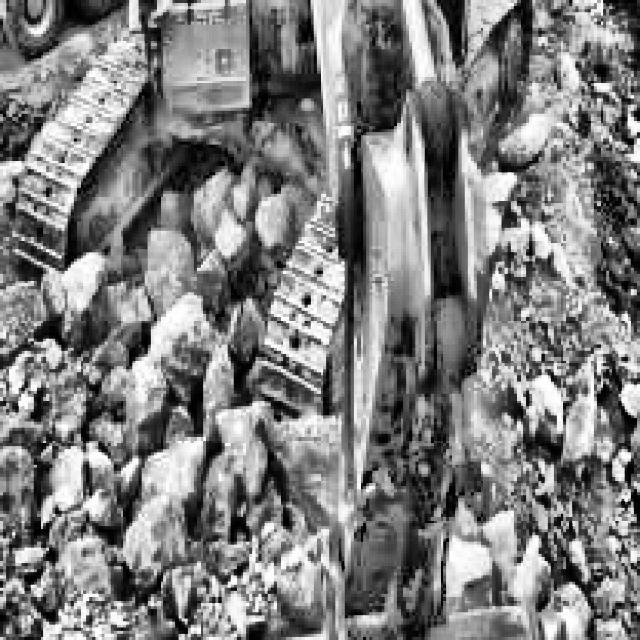excavator: (3, 0, 557, 640)
